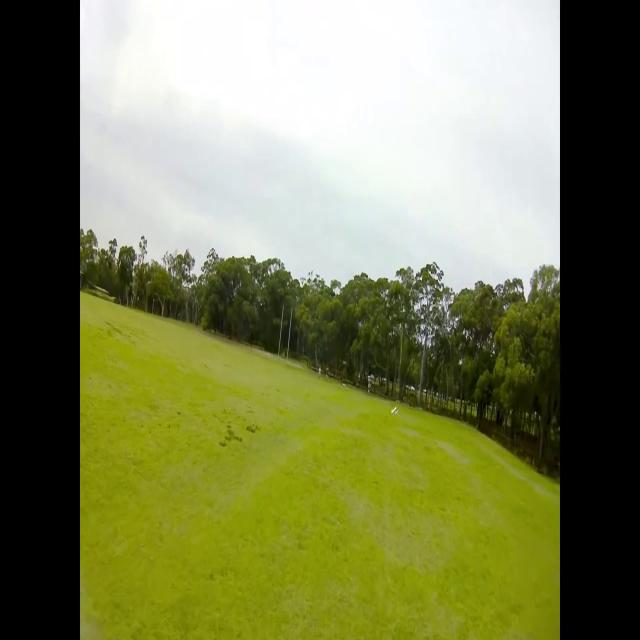iha: (388, 409, 390, 411)
